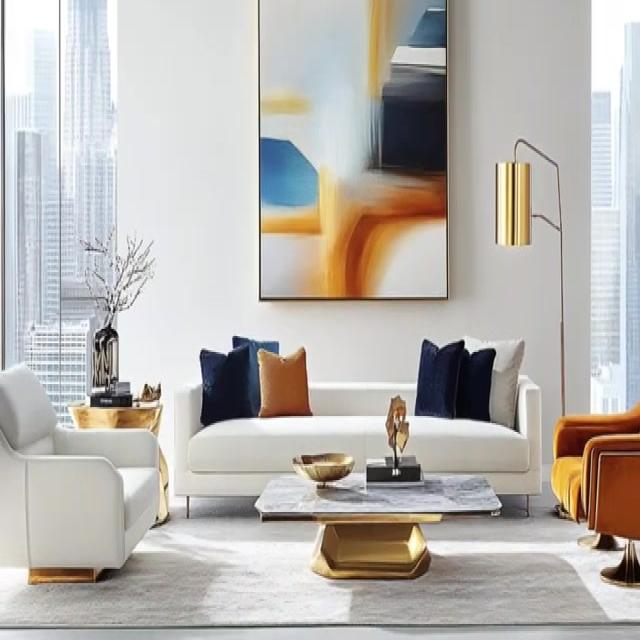obstacle: (173, 373, 542, 519), (0, 357, 160, 570), (253, 471, 502, 580), (550, 405, 640, 587)
